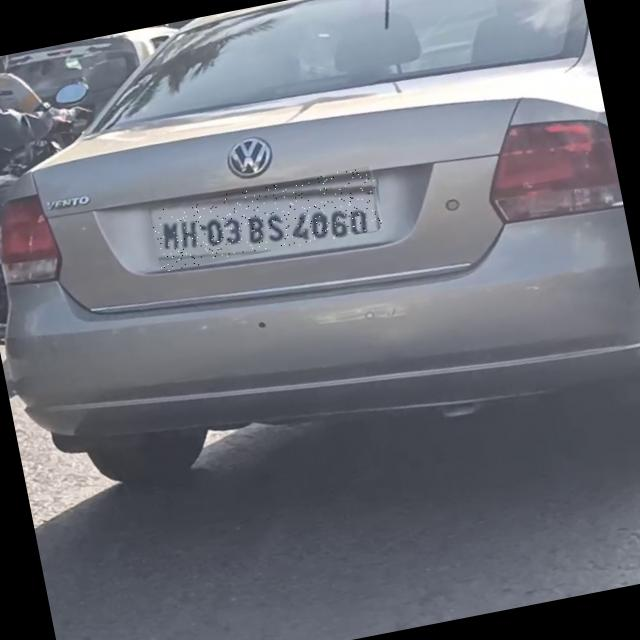Plate: (150, 166, 386, 273)
